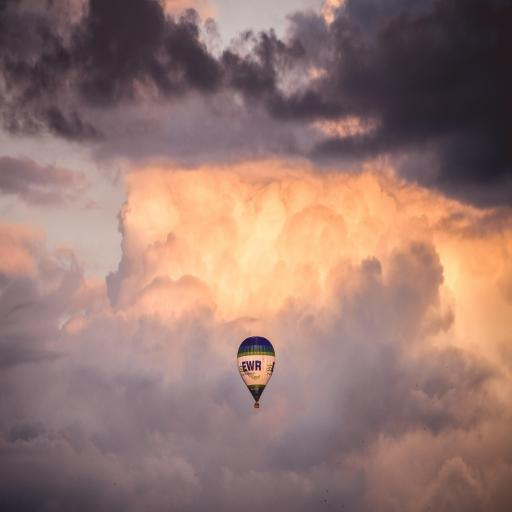hot air ballon: (236, 333, 277, 411)
